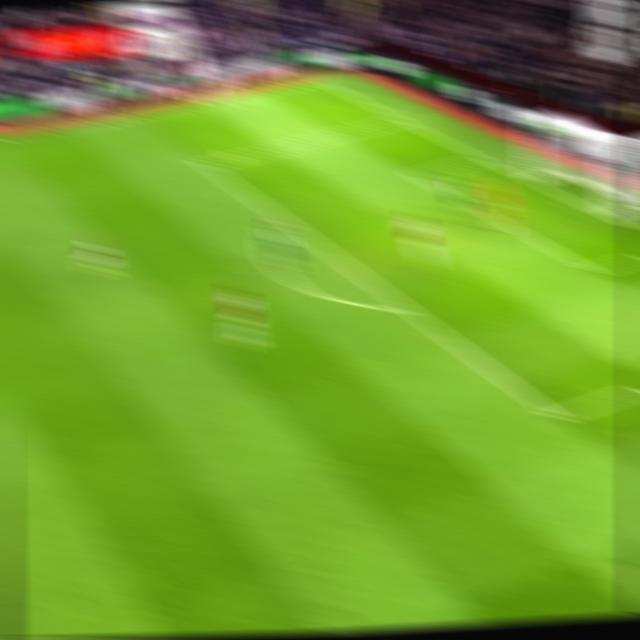bigarea_bottom_inner: (543, 403, 571, 427)
bigarea_top_inner: (194, 156, 219, 173)
bigarea_top_outter: (389, 112, 410, 124)
bottom_arc_area_intersection: (395, 300, 420, 318)
corner: (302, 73, 325, 84)
smallarea_bottom_inner: (582, 260, 608, 280)
smallarea_top_inner: (408, 169, 429, 181)
smallarea_top_outter: (470, 152, 493, 164)
top_arc_area_intersection: (273, 214, 294, 227)
